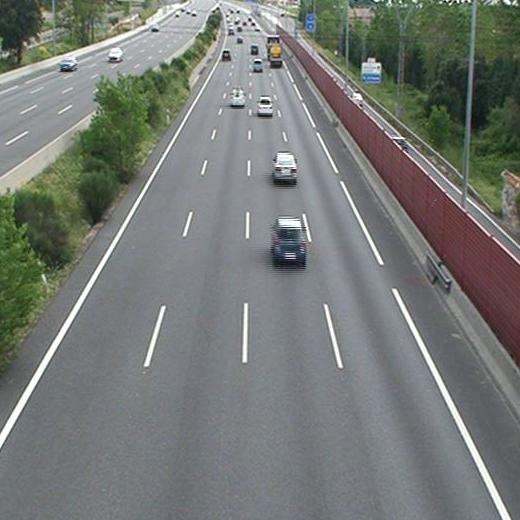car: (271, 218, 306, 259), (274, 153, 297, 178), (229, 90, 247, 106), (258, 97, 273, 113), (252, 60, 263, 71), (221, 49, 231, 59), (250, 44, 259, 53)
small-truck: (269, 42, 282, 65)
